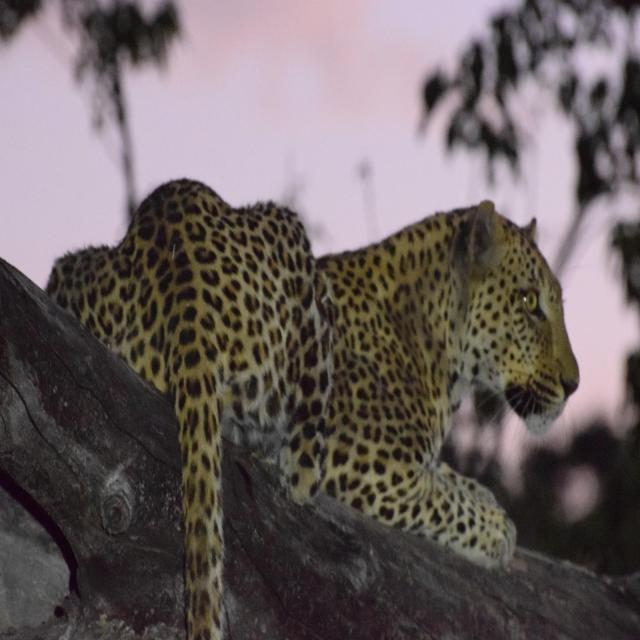Leopard: (3, 180, 562, 630)
